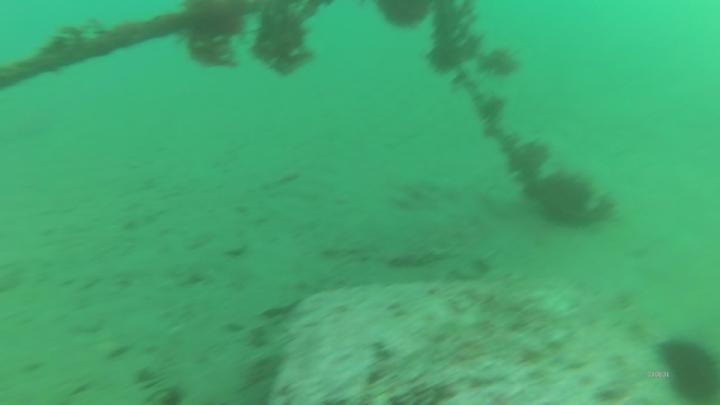echinus: (654, 336, 720, 400)
